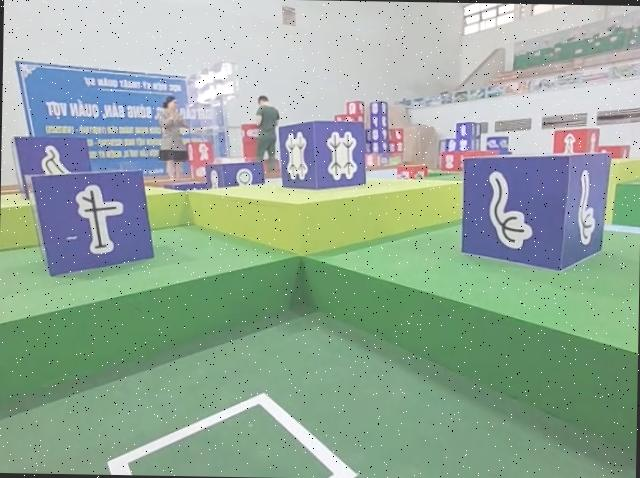R2 Real Blue: (462, 153, 609, 277), (23, 169, 153, 282), (275, 120, 364, 193), (12, 134, 92, 197), (205, 160, 264, 189)
